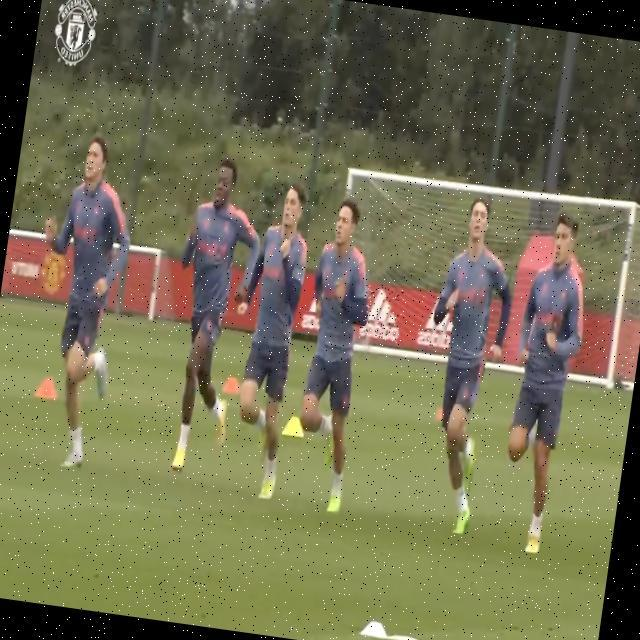Adidas: (358, 284, 405, 343), (416, 295, 462, 352)
